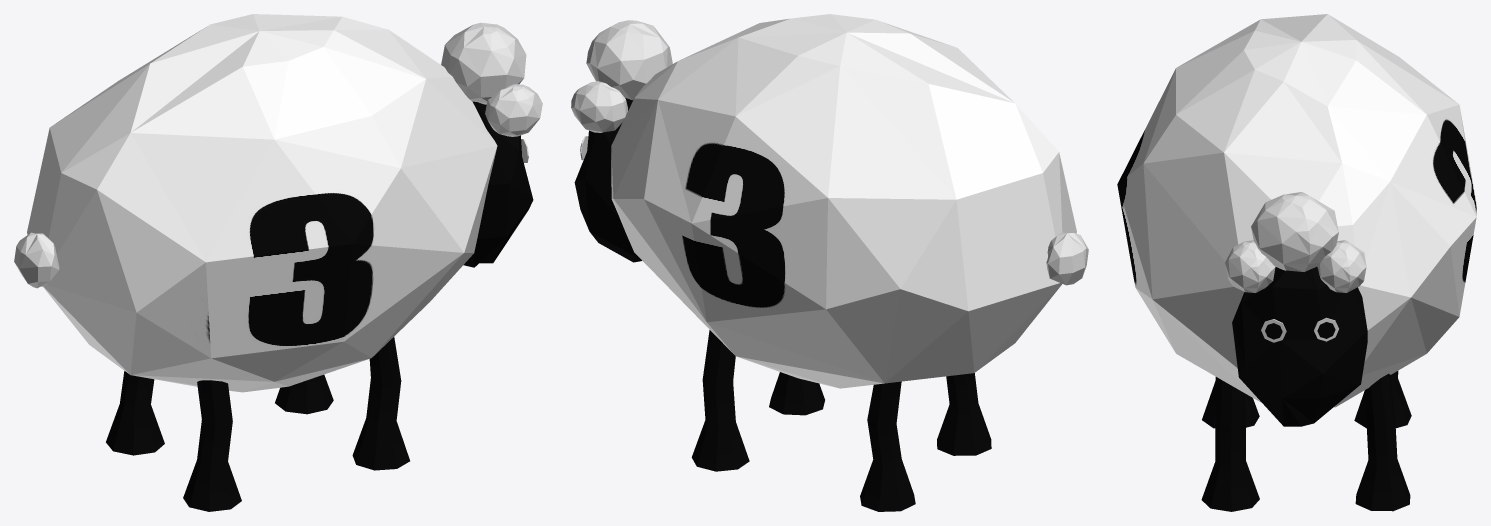
The model's file is sheep3.fbx.
3 views of the same model, side by side, from view 1: azimuth 30°, elevation 25°; view 2: azimuth 150°, elevation 25°; view 3: azimuth 270°, elevation 25° (orthographic).
Visible parts, largest first — view 1: pSphere1, pSphere7, pSphere4, pCylinder1, pCylinder5, pCylinder7, pSphere8, pSphere3, pCylinder6; view 2: pSphere1, pCylinder6, pSphere7, pCylinder7, pSphere4, pCylinder1, pSphere9, pSphere3, pCylinder5; view 3: pSphere1, pSphere4, pSphere7, pCylinder5, pCylinder6, pSphere8, pSphere9, pCylinder7, pCylinder1.
Boxes of the visible parts, x1,y1,x2,y2 form: pSphere1: (27, 14, 497, 392); pSphere7: (441, 22, 526, 104); pSphere4: (463, 101, 533, 267); pCylinder1: (183, 380, 241, 511); pCylinder5: (352, 337, 409, 470); pCylinder7: (106, 371, 164, 455); pSphere8: (485, 84, 542, 136); pSphere3: (14, 232, 59, 288); pCylinder6: (275, 374, 333, 414); pSphere1: (611, 14, 1076, 388); pCylinder6: (691, 330, 749, 471); pSphere7: (586, 20, 672, 100); pCylinder7: (860, 381, 915, 511); pSphere4: (574, 98, 641, 262); pCylinder1: (937, 373, 991, 455); pSphere9: (571, 81, 627, 132); pSphere3: (1046, 232, 1088, 285); pCylinder5: (769, 372, 824, 415); pSphere1: (1117, 14, 1476, 407); pSphere4: (1232, 266, 1367, 426); pSphere7: (1251, 192, 1338, 271); pCylinder5: (1201, 378, 1259, 511); pCylinder6: (1355, 373, 1410, 511); pSphere8: (1225, 240, 1275, 292); pSphere9: (1317, 240, 1366, 292); pCylinder7: (1354, 371, 1411, 428); pCylinder1: (1202, 377, 1259, 428).
Bounding box in the file's own units: 3.08 × 2.46 × 1.93.
Materials: 3 (1 with a texture image).
